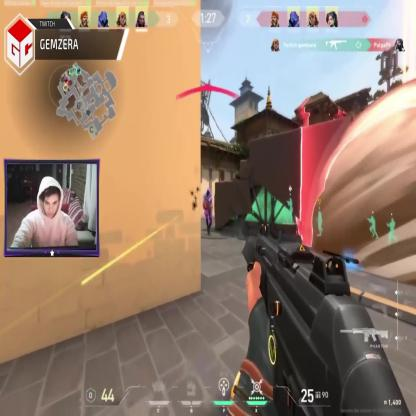enemy: (202, 187, 212, 236)
enemy_head: (206, 188, 210, 197)
